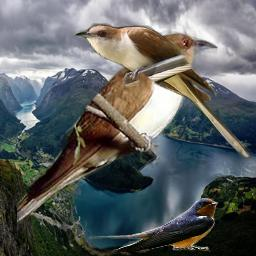Cuckoo: (17, 30, 218, 224), (73, 23, 253, 161)
Swallow: (87, 197, 218, 253)
